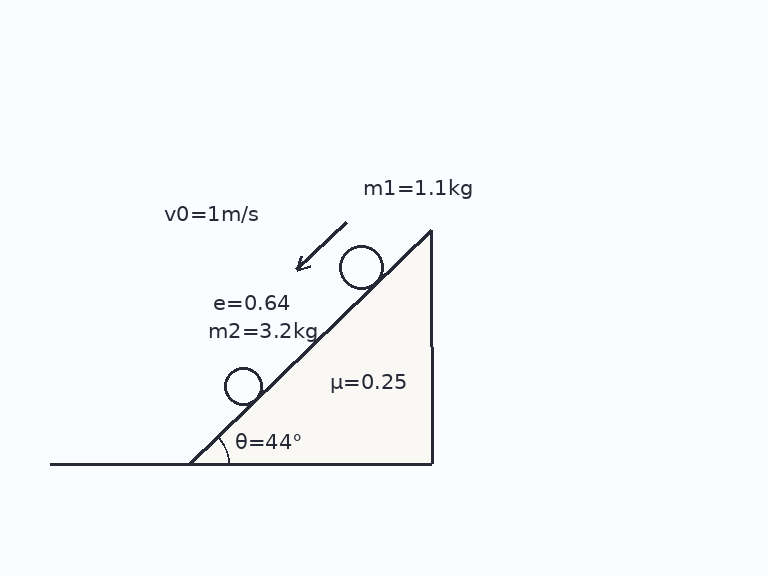ball: (337, 243, 385, 291), (222, 365, 264, 407)
ramp: (187, 228, 433, 466)
